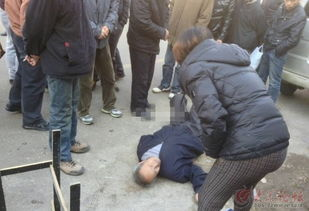10+: (1, 1, 306, 209)
down: (130, 109, 210, 200)
